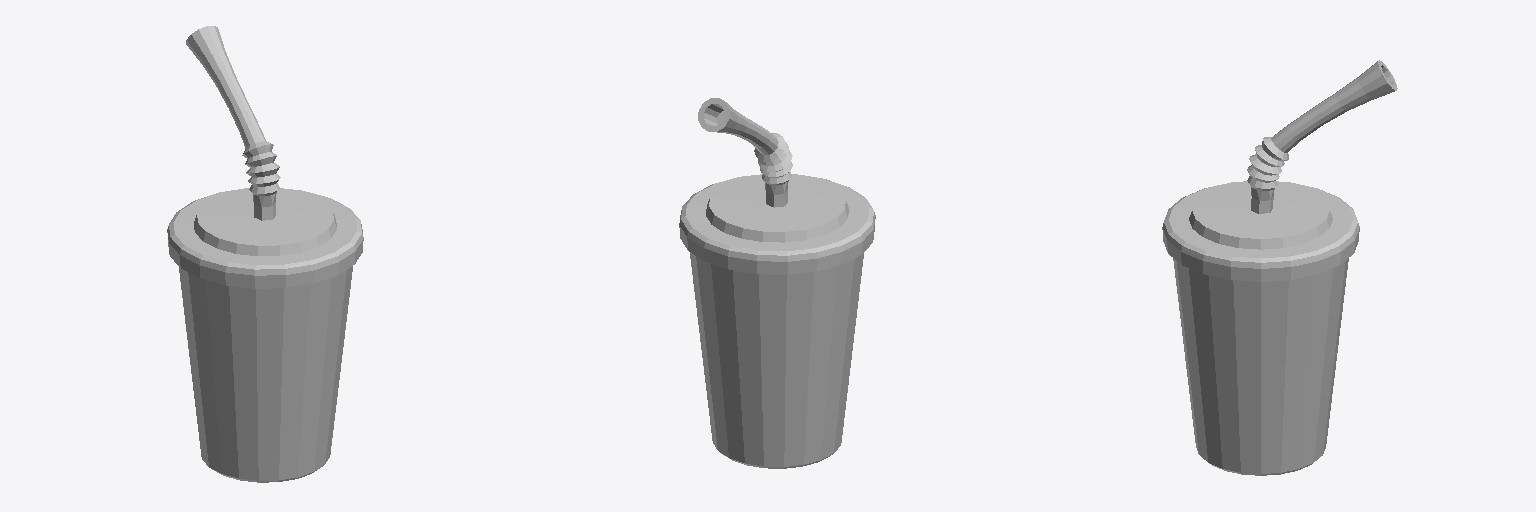
The model's file is drinking cup.obj.
3 views of the same model, side by side, from view 1: azimuth 30°, elevation 25°; view 2: azimuth 150°, elevation 25°; view 3: azimuth 270°, elevation 25° (orthographic).
Visible parts, largest first — view 1: SM_Patrick_DrinkingCup.mo_SM_Patrick_DrinkingCup.md.001; view 2: SM_Patrick_DrinkingCup.mo_SM_Patrick_DrinkingCup.md.001; view 3: SM_Patrick_DrinkingCup.mo_SM_Patrick_DrinkingCup.md.001.
Part boxes in pixels (x1,y1,x2,y2): SM_Patrick_DrinkingCup.mo_SM_Patrick_DrinkingCup.md.001: (167,26,363,482); SM_Patrick_DrinkingCup.mo_SM_Patrick_DrinkingCup.md.001: (679,98,875,468); SM_Patrick_DrinkingCup.mo_SM_Patrick_DrinkingCup.md.001: (1162,60,1397,475).
Bounding box in the file's own units: 0.2571 × 0.5578 × 0.3065.